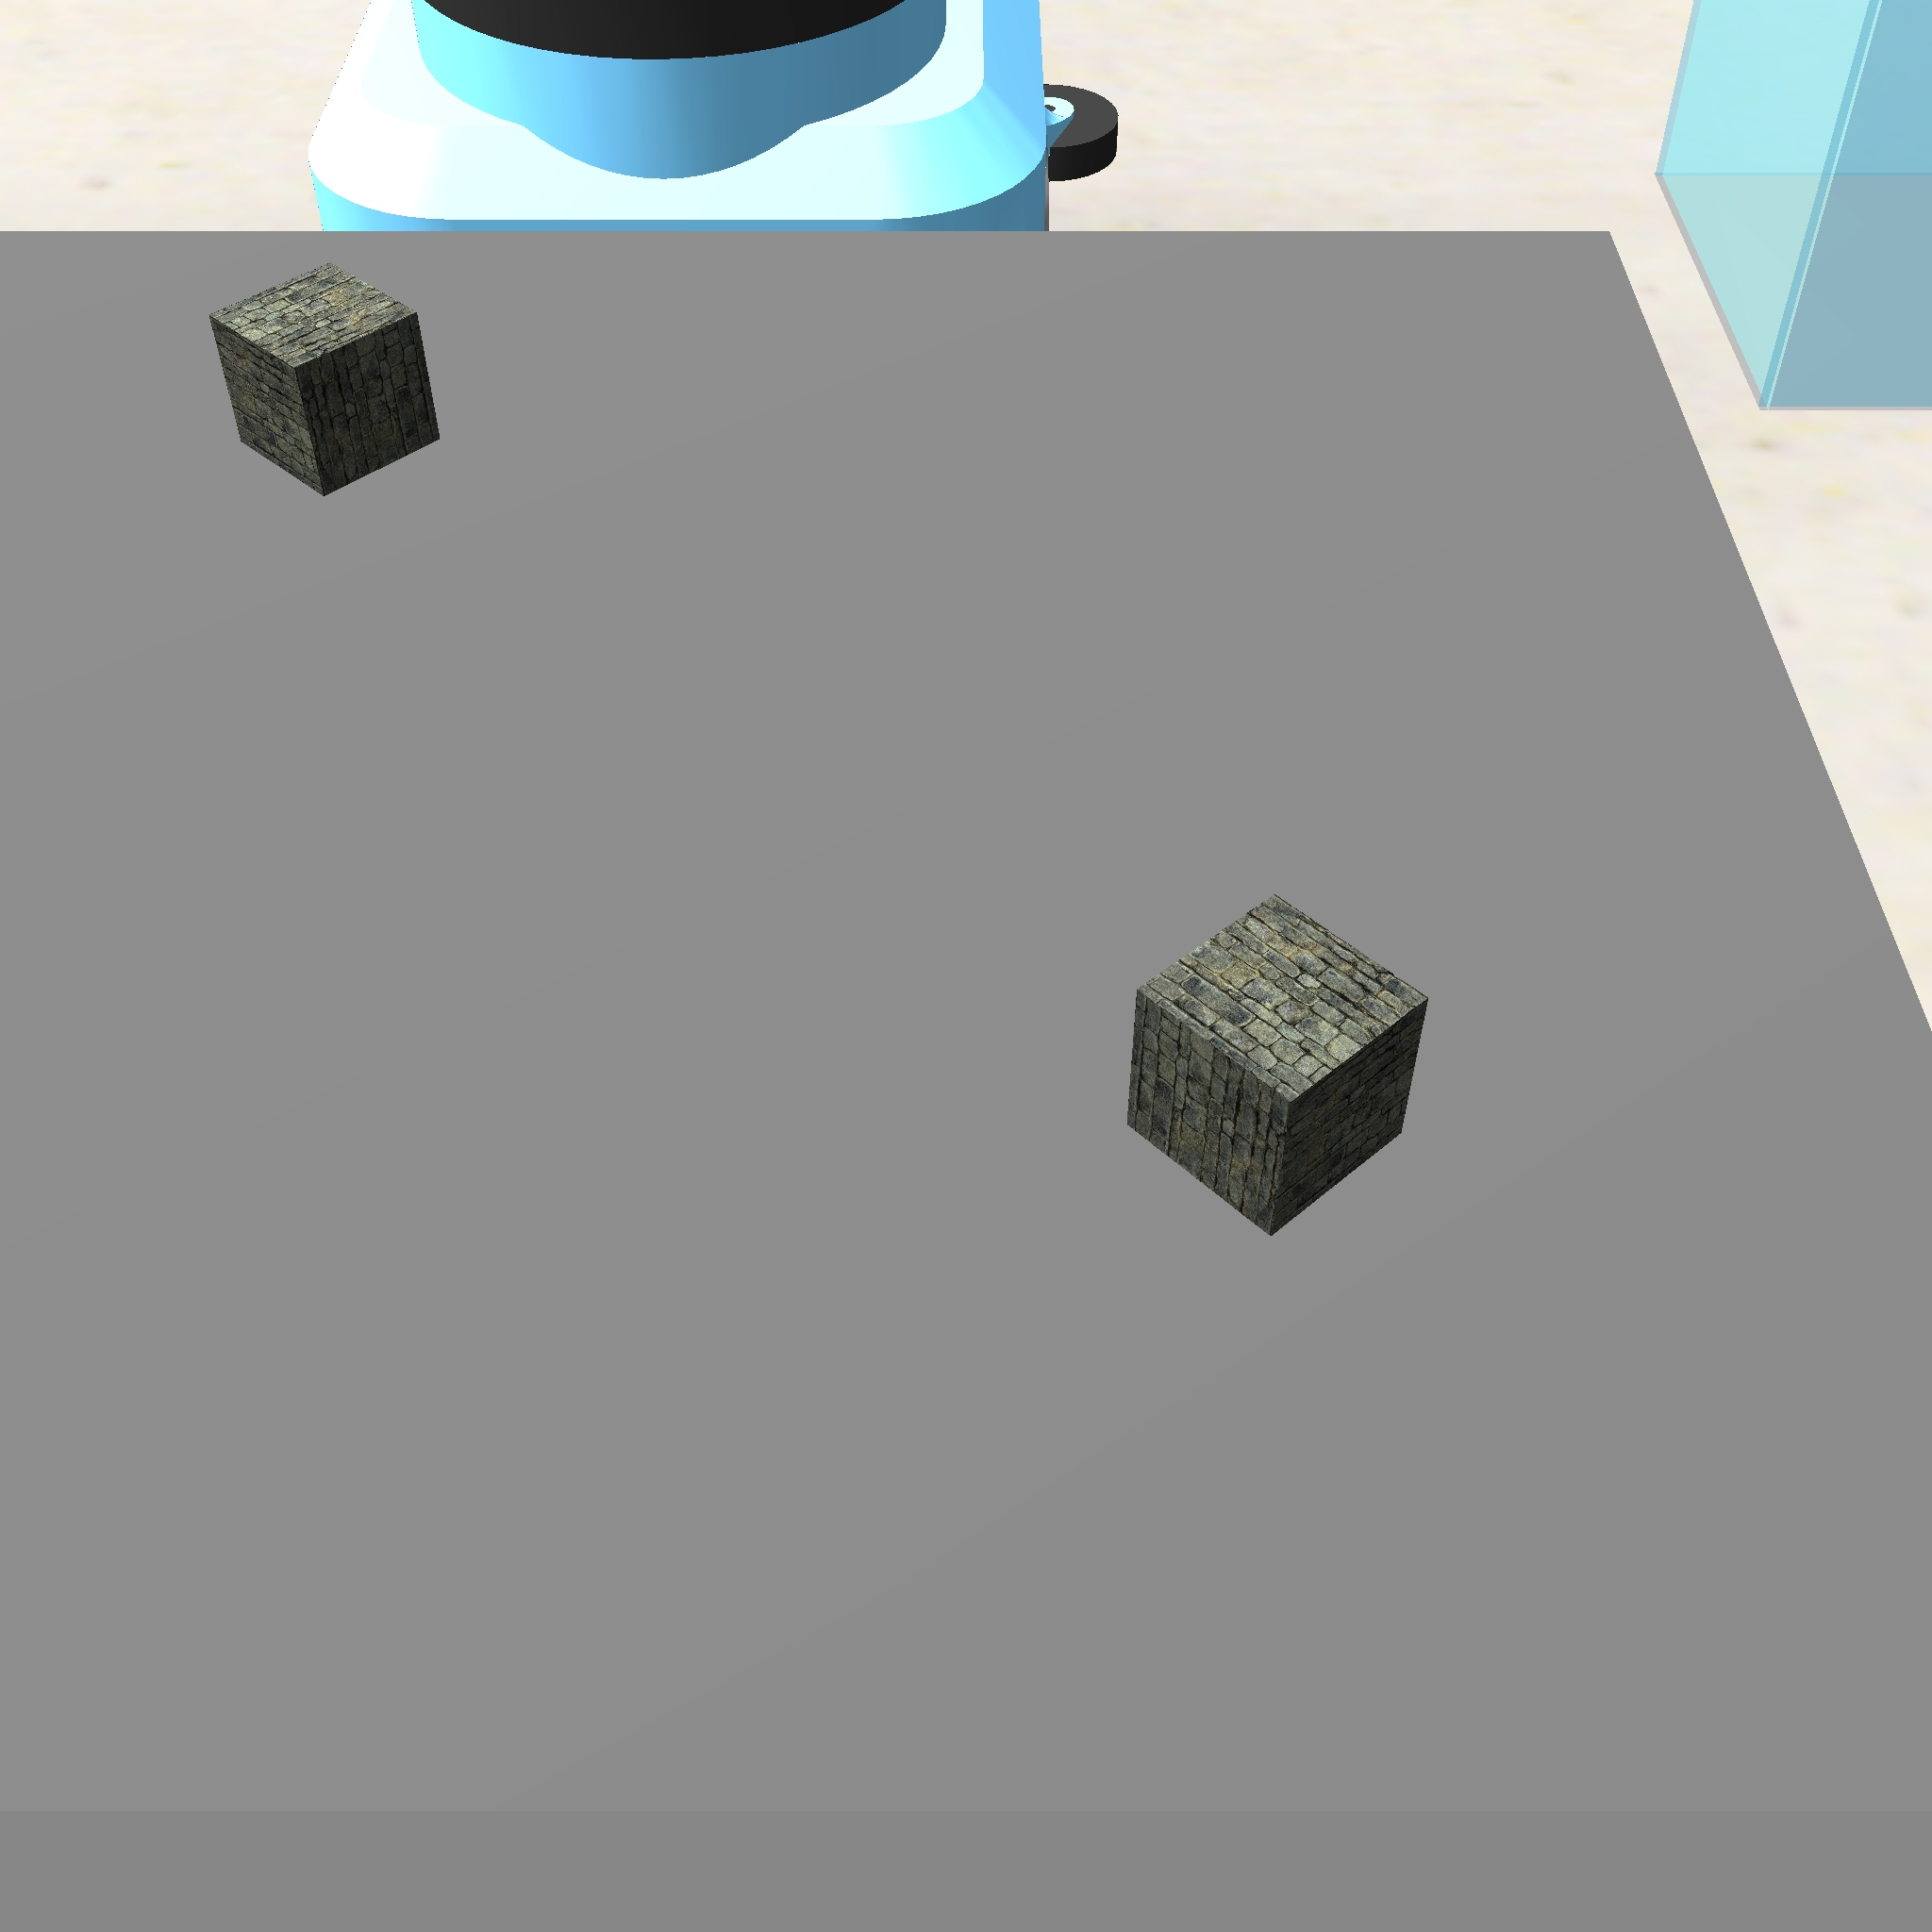cube: (1111, 885, 1437, 1249), (202, 257, 451, 506)
